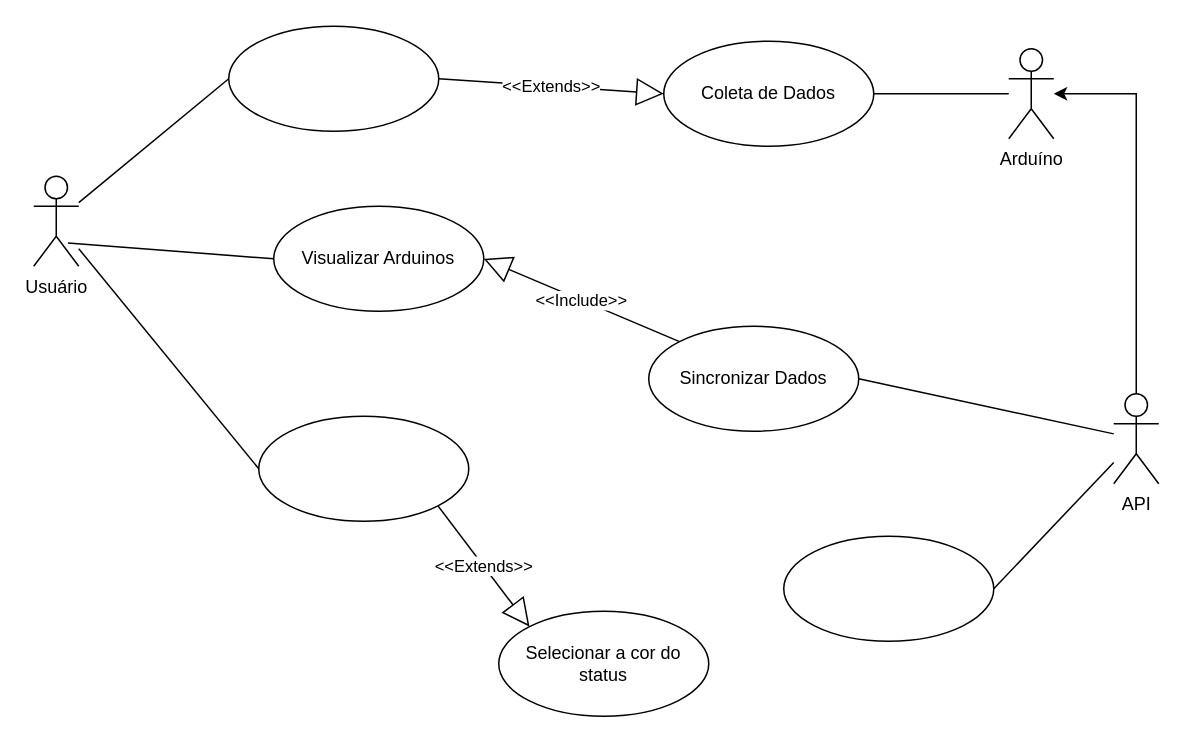
This 1185x743 diagram has some shape labels left out. The shapes that lost their labels are listed below. From the top down, each one's centre as x and y in pixels, then its label:
At point (333, 78): "Monitorar Dados".
At point (363, 468): "Definir status do Arduino".
At point (888, 588): "Armazenar no banco".
